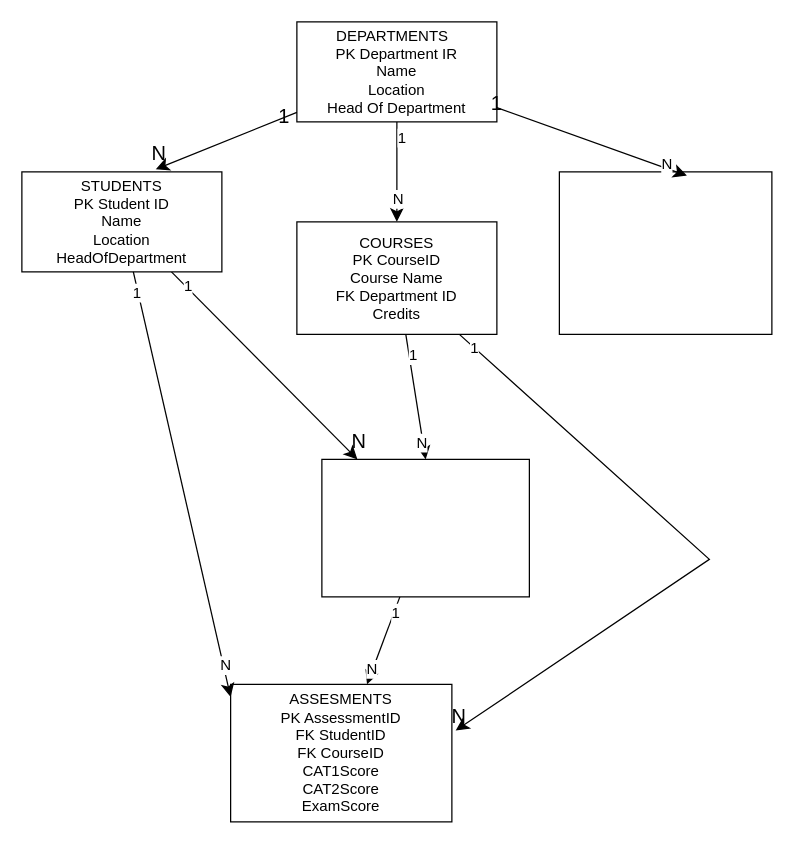
Some shapes in this 794 by 844 pixel diagram are drawn without their labels. Each missing label, with the centre of its shape:
ENROLLMENT PK EnrollmentID FK StudentID FK CourseID EnrollmentDate Status: the point at 425,527
STAFF PK Staff ID Name Role FK Department ID Email: the point at 665,252
